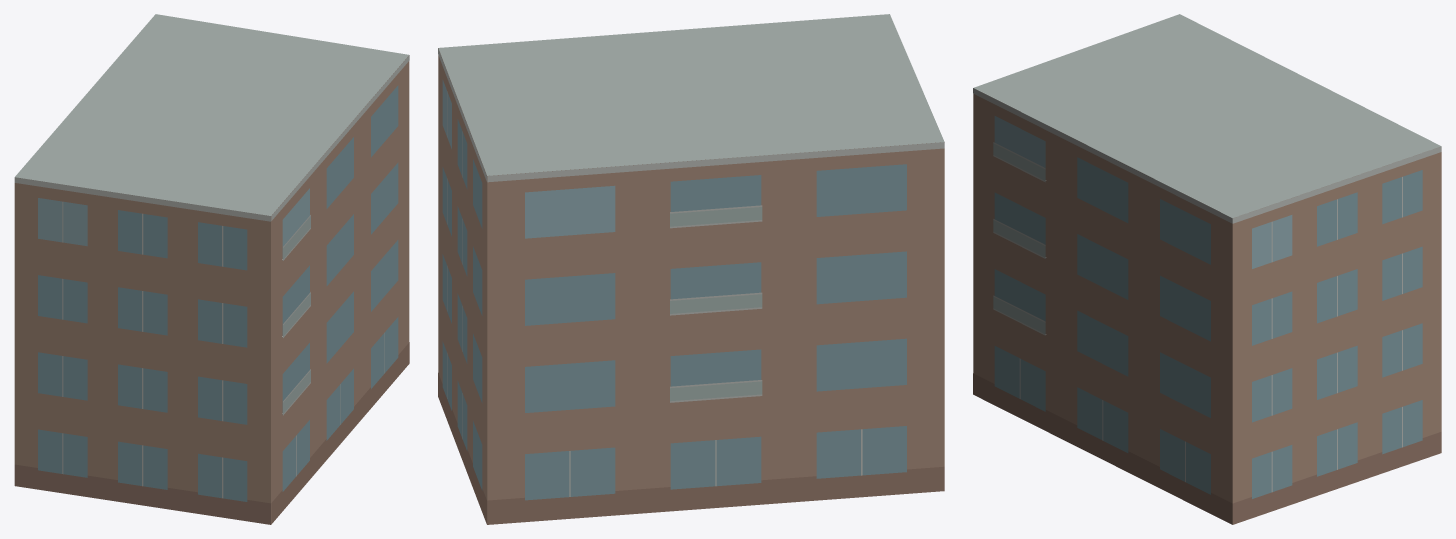
File: survey-upis-32840669.glb
3 renders of one model, left to right at view 1: azimuth 30°, elevation 25°; view 2: azimuth 150°, elevation 25°; view 3: azimuth 270°, elevation 25°, orthographic. The views are drawn at different scales.
Parts seen in each view (by area): view 1: survey-upis-32840669.tmp; view 2: survey-upis-32840669.tmp; view 3: survey-upis-32840669.tmp.
Part boxes in pixels (x1,y1,x2,y2): survey-upis-32840669.tmp: (14,14,409,524); survey-upis-32840669.tmp: (438,14,944,524); survey-upis-32840669.tmp: (973,14,1441,524).
Bounding box in the file's own units: 19.08 × 13.35 × 18.49.
